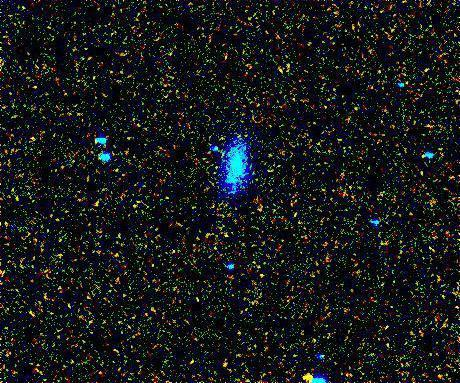star: (293, 364, 323, 383)
